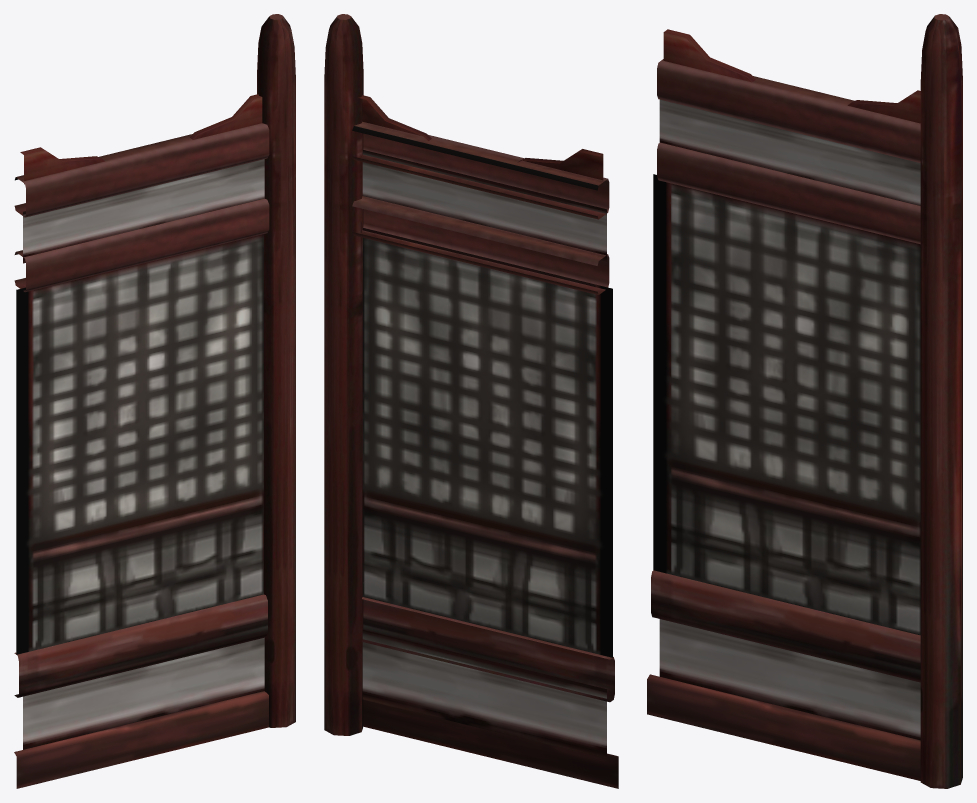
File: PRP_Screen01.FBX
3 renders of one model, left to right at view 1: azimuth 30°, elevation 25°; view 2: azimuth 150°, elevation 25°; view 3: azimuth 330°, elevation 25°, orthographic. The views are drawn at different scales.
Visible parts, largest first — view 1: PRP_Screen01; view 2: PRP_Screen01; view 3: PRP_Screen01.
Part boxes in pixels (bbox=[...]): PRP_Screen01: bbox=[14, 14, 295, 788]; PRP_Screen01: bbox=[324, 14, 618, 788]; PRP_Screen01: bbox=[647, 14, 962, 788].
Size of the model in its own units: 152 by 361 by 18.8.
